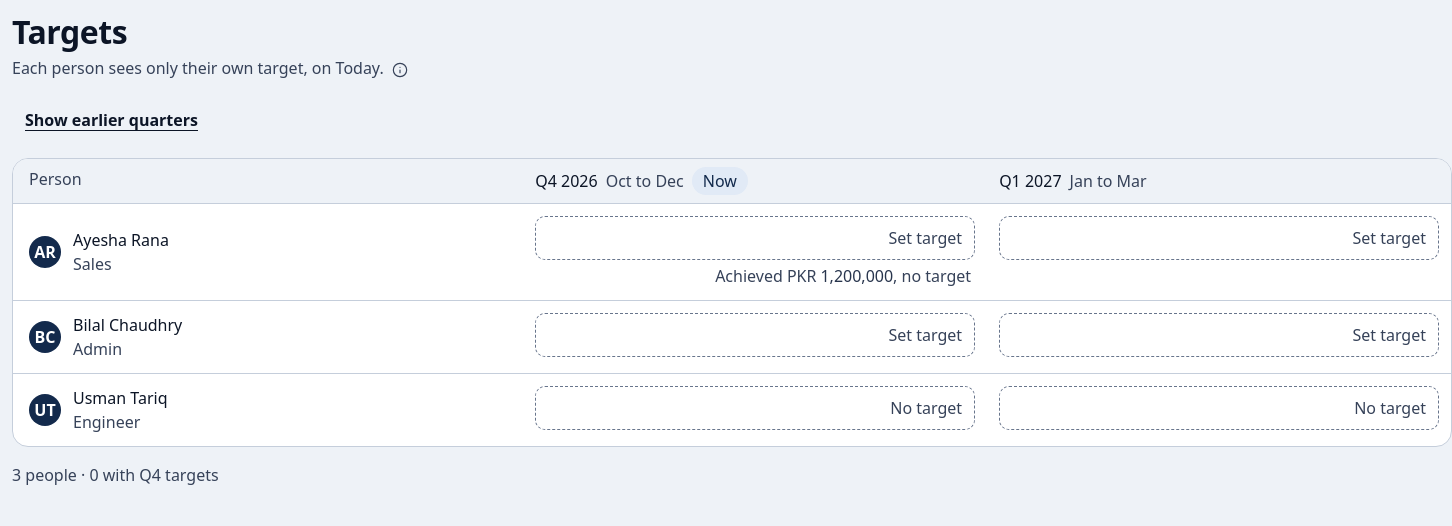
Test: Targets (M06) › a quarter that has not started says when it starts
Expected: the text "Ayesha Rana" is shown, [73,228,169,252]
Click the button "Show earlier quarters" at (112, 120), box [12,98,211,142]
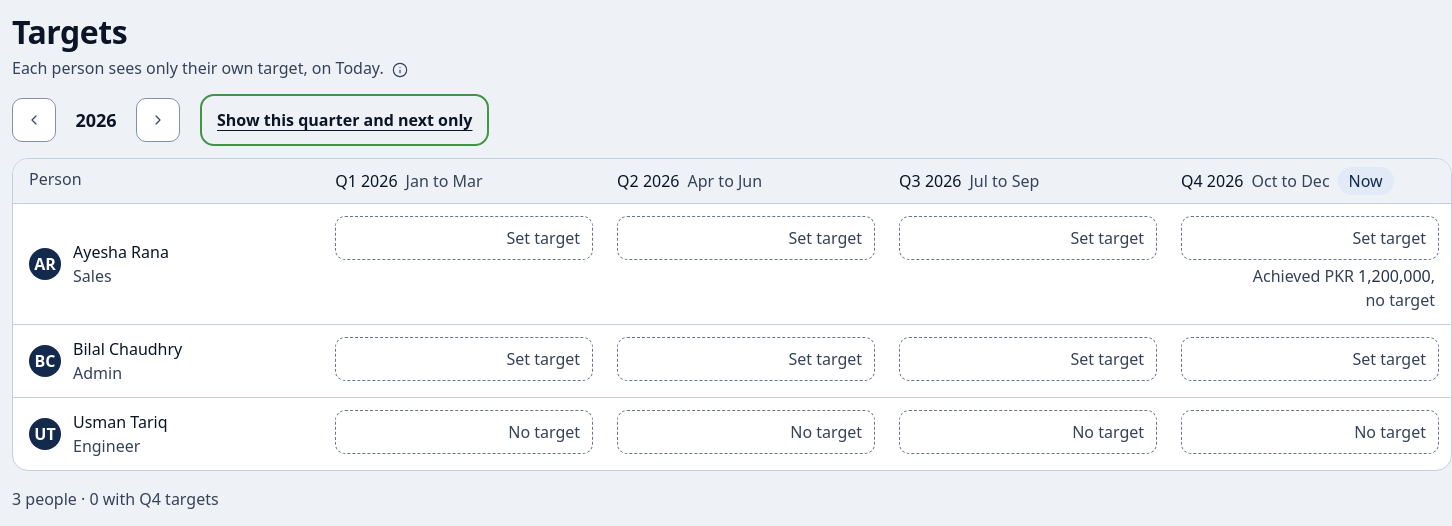
Click the button named "Next year" at (158, 120), box [136,98,180,142]
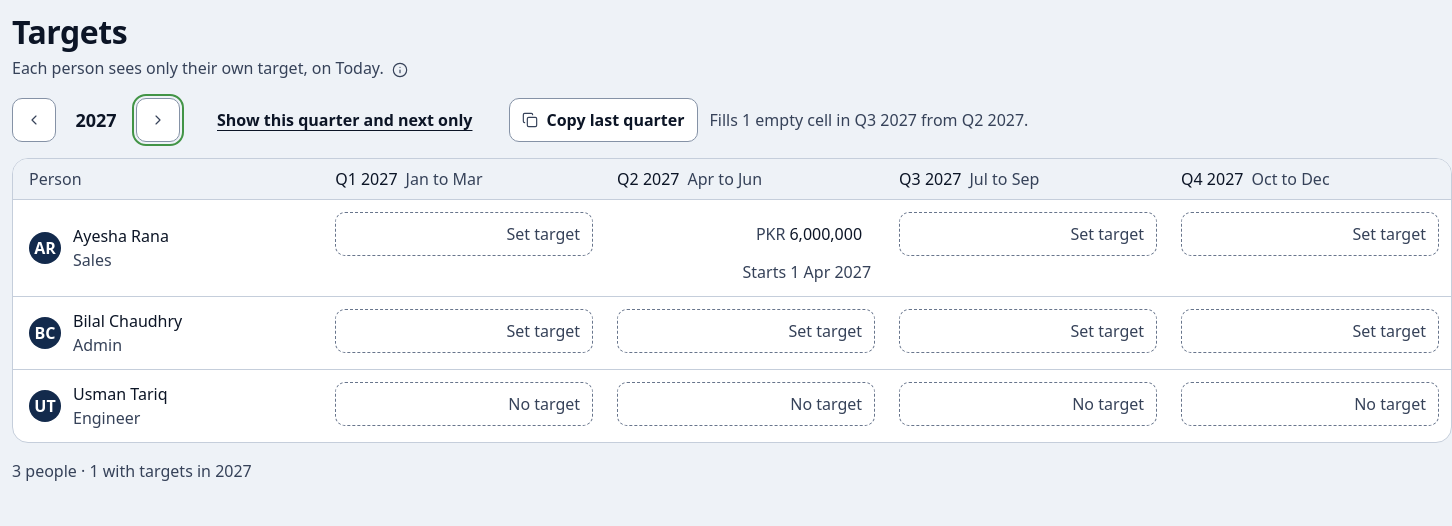
Expected: the text with test id "targets-year" reads "2027", [75,108,117,132]
Expected: the text "Starts 1 Apr 2027" is shown, [743,261,871,283]
